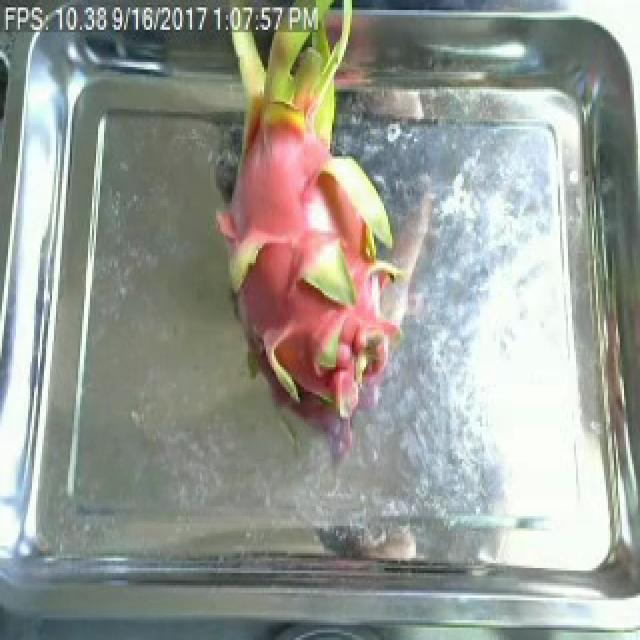fruit: (202, 8, 432, 434)
